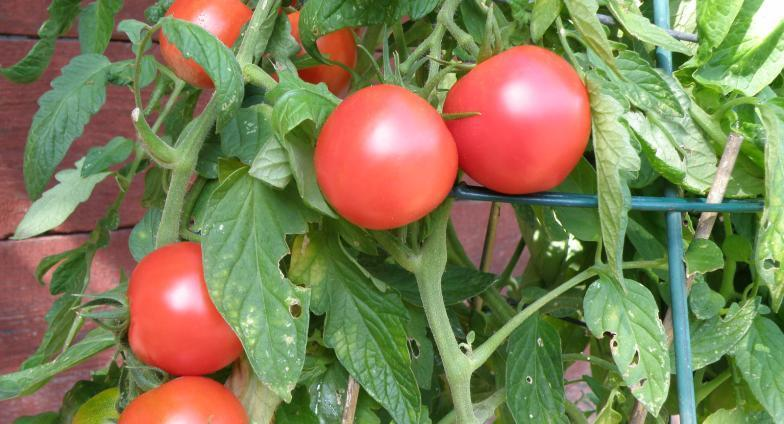healthy-tomato: (440, 47, 595, 198), (315, 85, 463, 233), (127, 243, 259, 397), (159, 1, 269, 90), (290, 16, 377, 100), (117, 370, 252, 424)
